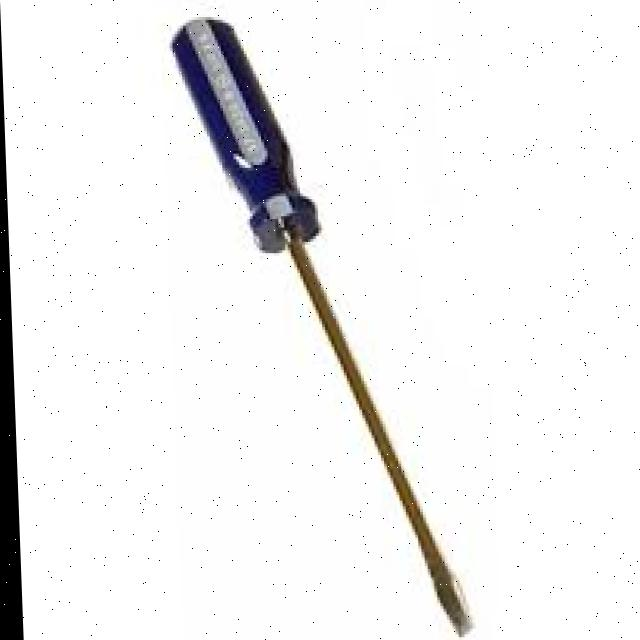Screwdriver: (173, 20, 467, 634)
